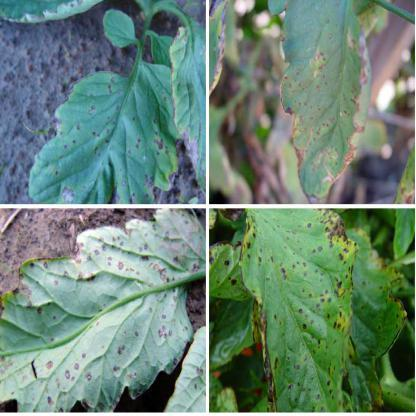Tomato leaf late blight: (2, 212, 196, 410), (230, 207, 359, 406), (30, 29, 174, 200), (269, 8, 369, 202)
